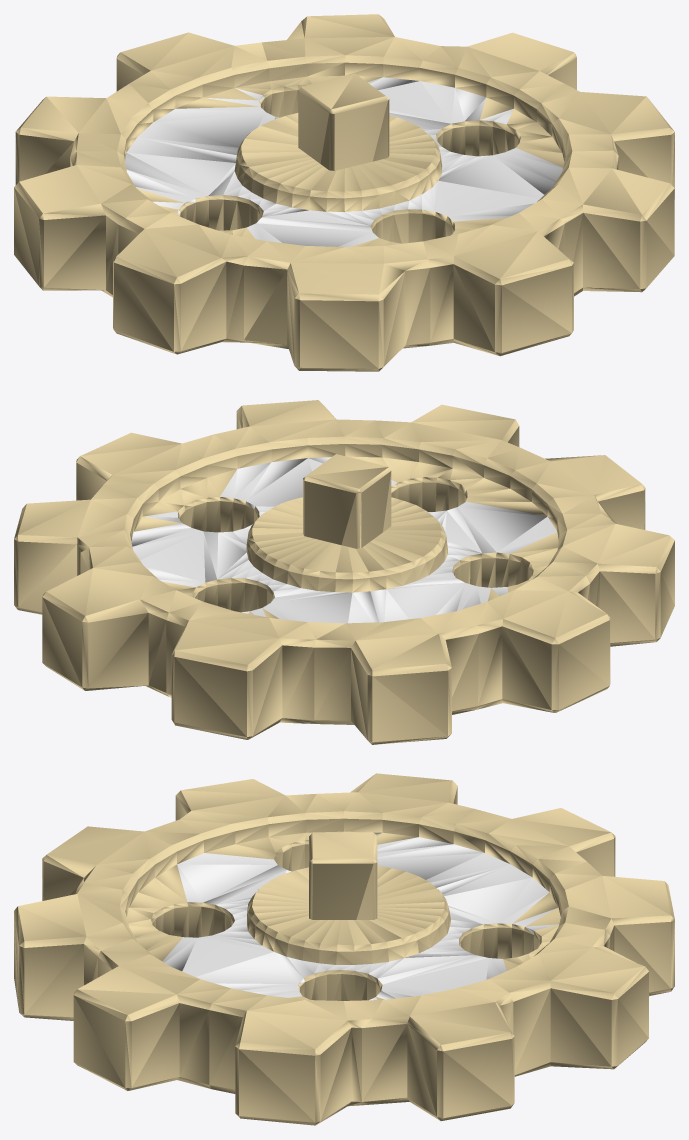
Rendered from pinion.glb.
3 views of the same model, one above another, from view 1: azimuth 30°, elevation 25°; view 2: azimuth 150°, elevation 25°; view 3: azimuth 270°, elevation 25° (orthographic). The views are drawn at different scales.
Visible parts, largest first — view 1: tripo_node_8b36a3b2-3bfa-4275-a8c3-9b434bc19676; view 2: tripo_node_8b36a3b2-3bfa-4275-a8c3-9b434bc19676; view 3: tripo_node_8b36a3b2-3bfa-4275-a8c3-9b434bc19676.
Part boxes in pixels (x1,y1,x2,y2): tripo_node_8b36a3b2-3bfa-4275-a8c3-9b434bc19676: (14, 14, 674, 371); tripo_node_8b36a3b2-3bfa-4275-a8c3-9b434bc19676: (14, 400, 674, 744); tripo_node_8b36a3b2-3bfa-4275-a8c3-9b434bc19676: (14, 773, 674, 1125).
Bounding box in the file's own units: 0.998 × 0.3418 × 0.998.
